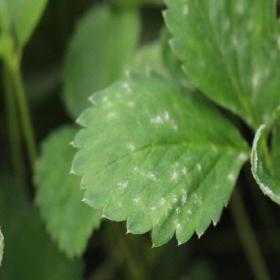Powdery Mildew Leaf: (68, 66, 250, 249), (159, 0, 279, 135), (249, 106, 279, 204)
